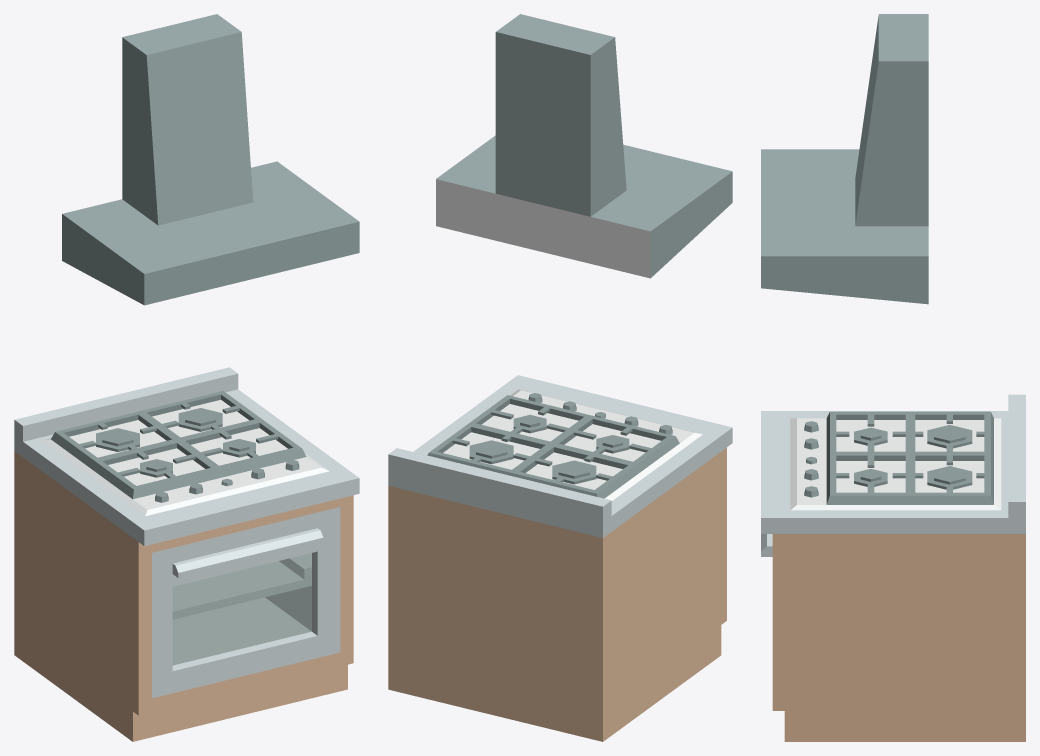
Rendered from stove_hood.glb.
The picture shows the model from 3 angles, left to right: view 1: azimuth 30°, elevation 25°; view 2: azimuth 150°, elevation 25°; view 3: azimuth 270°, elevation 25°; orthographic projection. The views are drawn at different scales.
Parts seen in each view (by area): view 1: kitchenStove(Clone), hoodModern(Clone), door; view 2: kitchenStove(Clone), hoodModern(Clone); view 3: kitchenStove(Clone), hoodModern(Clone).
Part boxes in pixels (left/top/right/bottom): kitchenStove(Clone): left=14, top=367, right=359, bottom=741; hoodModern(Clone): left=62, top=14, right=359, bottom=305; door: left=152, top=507, right=340, bottom=698; kitchenStove(Clone): left=388, top=375, right=732, bottom=741; hoodModern(Clone): left=436, top=14, right=732, bottom=278; kitchenStove(Clone): left=761, top=394, right=1025, bottom=741; hoodModern(Clone): left=761, top=14, right=928, bottom=304.
Size of the model in its own units: 0.8815 by 2.5 by 0.9225.
